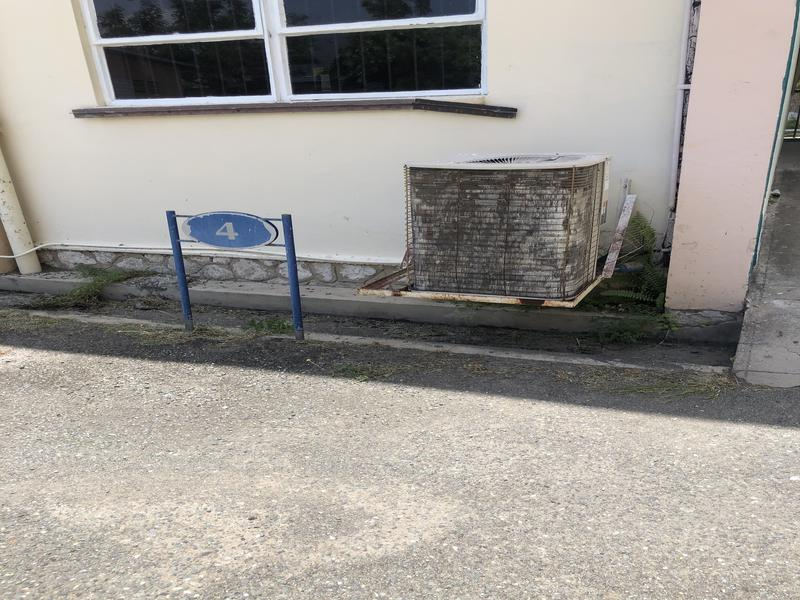18.0053530_-76.7490375_signatentrancetoscitech: (151, 205, 323, 335)
